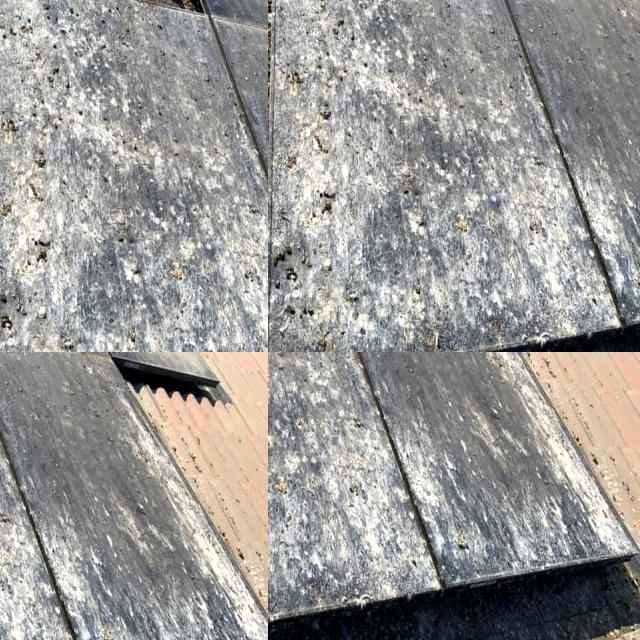bird: (268, 483, 310, 635), (268, 410, 287, 521), (339, 471, 376, 527), (268, 466, 302, 525), (444, 523, 486, 570), (268, 534, 289, 612), (351, 394, 377, 452), (484, 378, 504, 443), (268, 448, 296, 491), (268, 352, 289, 394), (268, 352, 297, 381), (268, 411, 289, 450), (268, 352, 294, 379), (268, 352, 291, 376), (268, 352, 294, 371)
dust: (0, 352, 258, 551), (121, 118, 268, 352), (0, 484, 71, 627), (222, 376, 268, 533)
panel: (548, 142, 640, 231), (510, 41, 576, 146), (468, 18, 528, 88), (557, 0, 640, 37), (421, 0, 487, 42), (490, 0, 554, 37), (286, 0, 344, 32), (348, 0, 407, 30), (418, 0, 476, 27)
